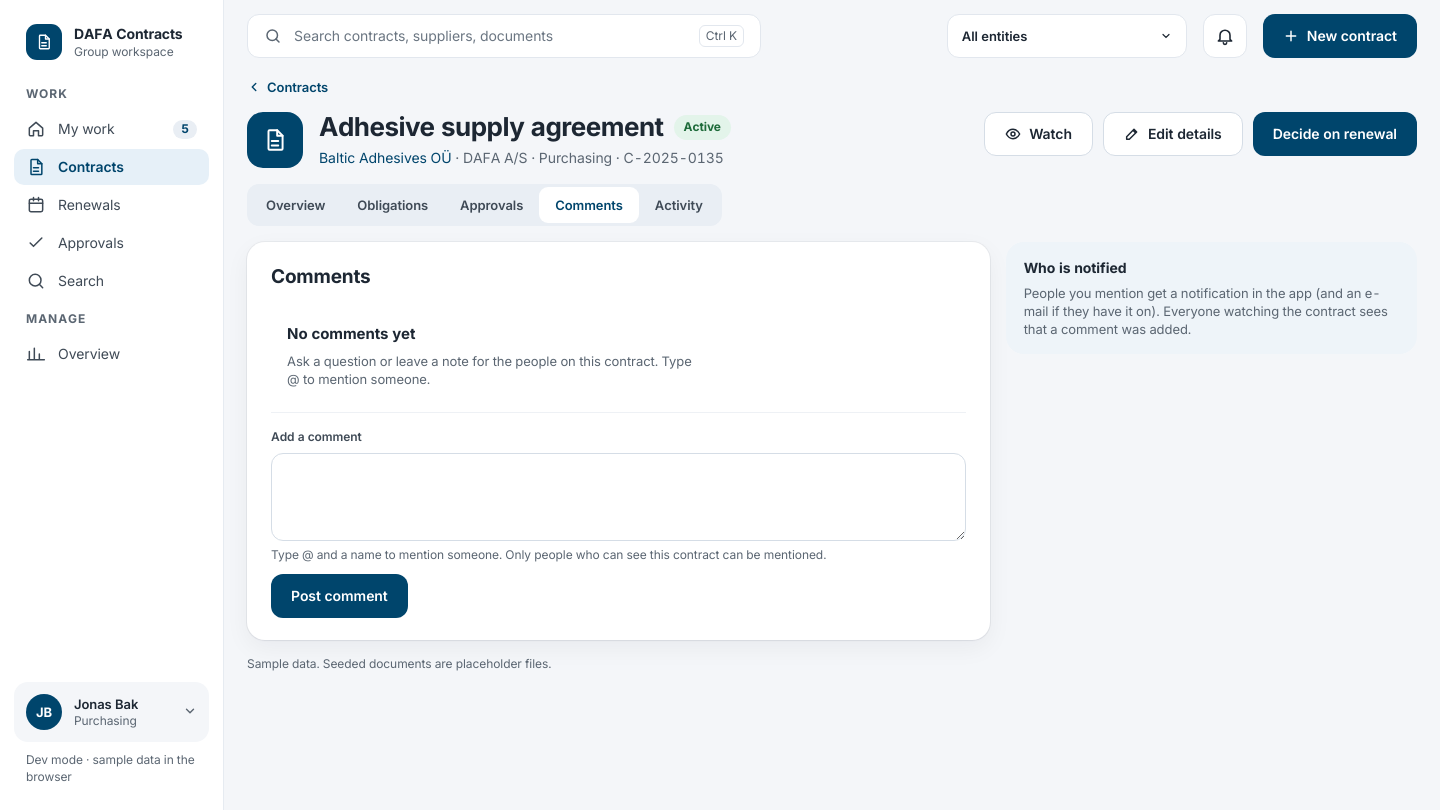
Collaboration on the record (release 3) › posts a comment with an @mention and the mentioned person gets a notification
The width and height of the screenshot is (1440, 810).
Type "Please check @Cam" into the dropdown labelled "Add a comment" at (618, 497), box [271, 453, 966, 541]
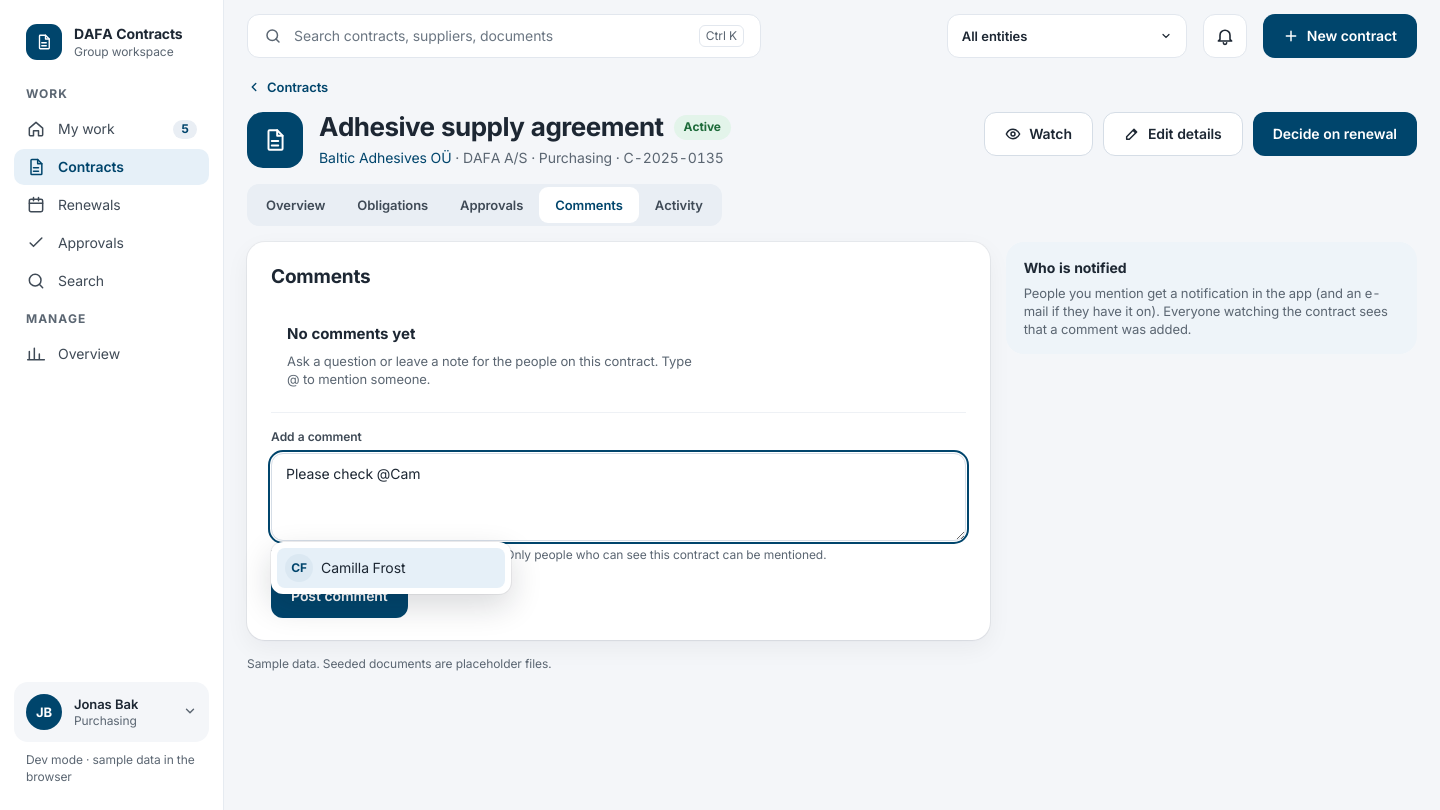
Click the option "CF Camilla Frost" at (391, 568), box [277, 548, 505, 588]
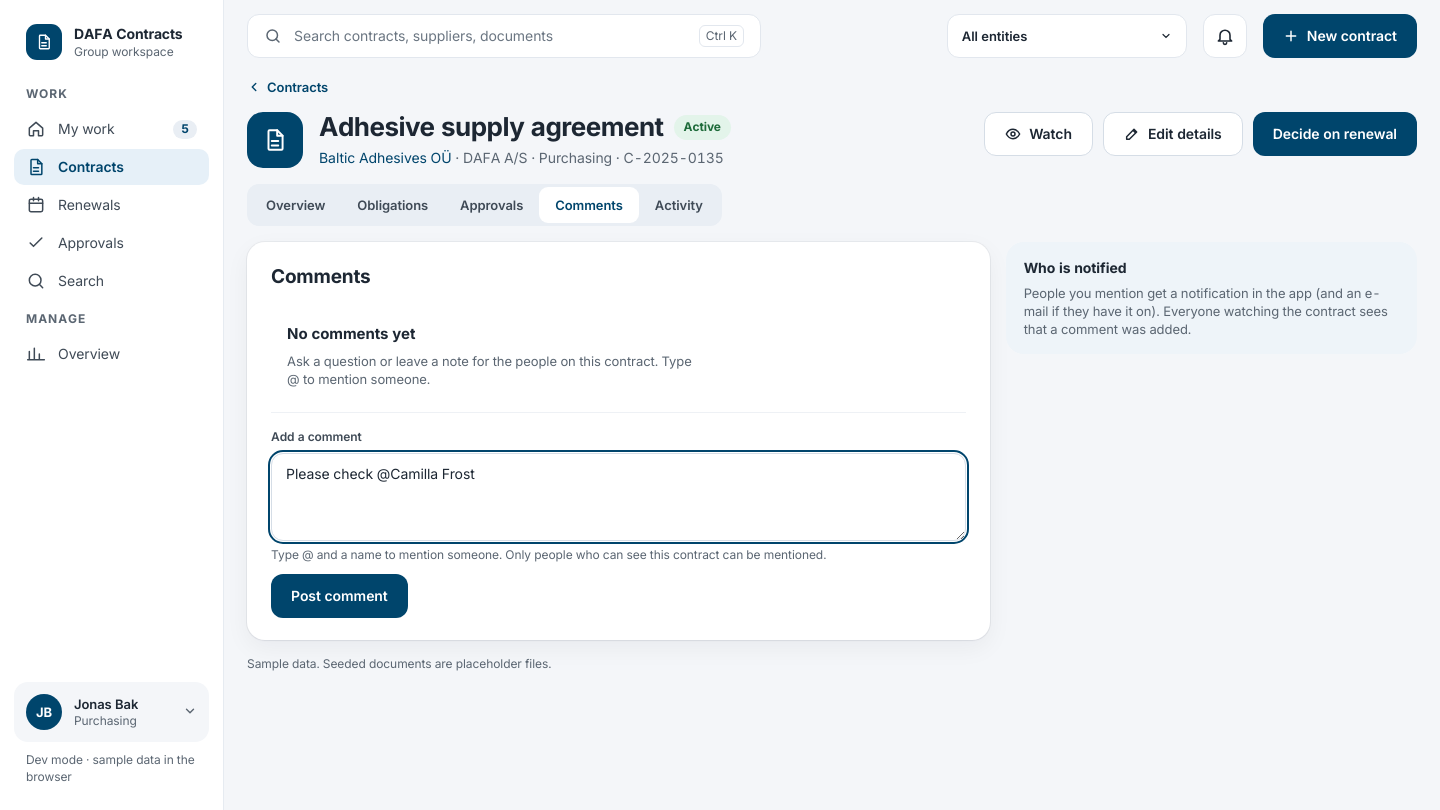
Type "the volumes" into the dropdown labelled "Add a comment" at (618, 497), box [271, 453, 966, 541]
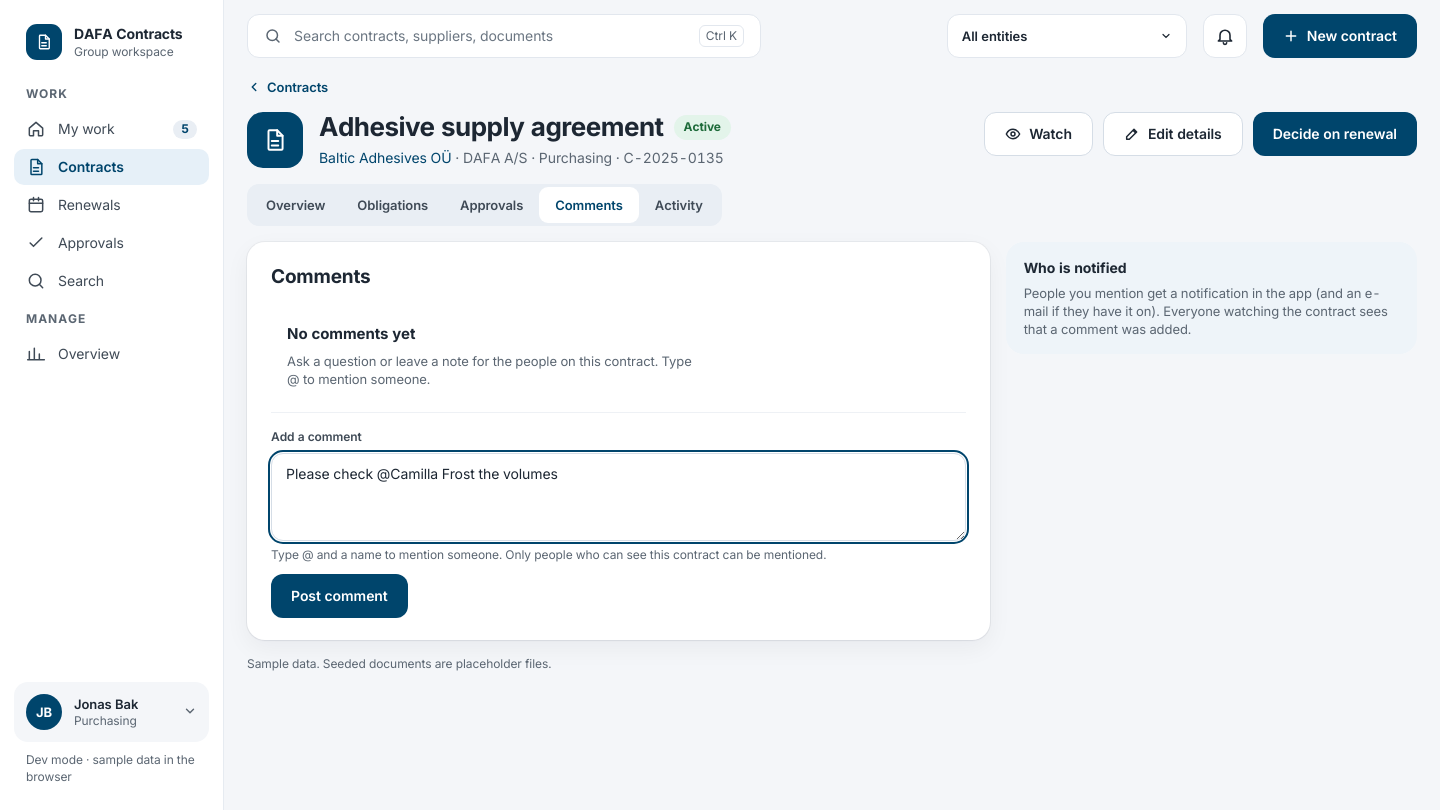
Click the button "Post comment" at (339, 596), box [271, 574, 408, 618]
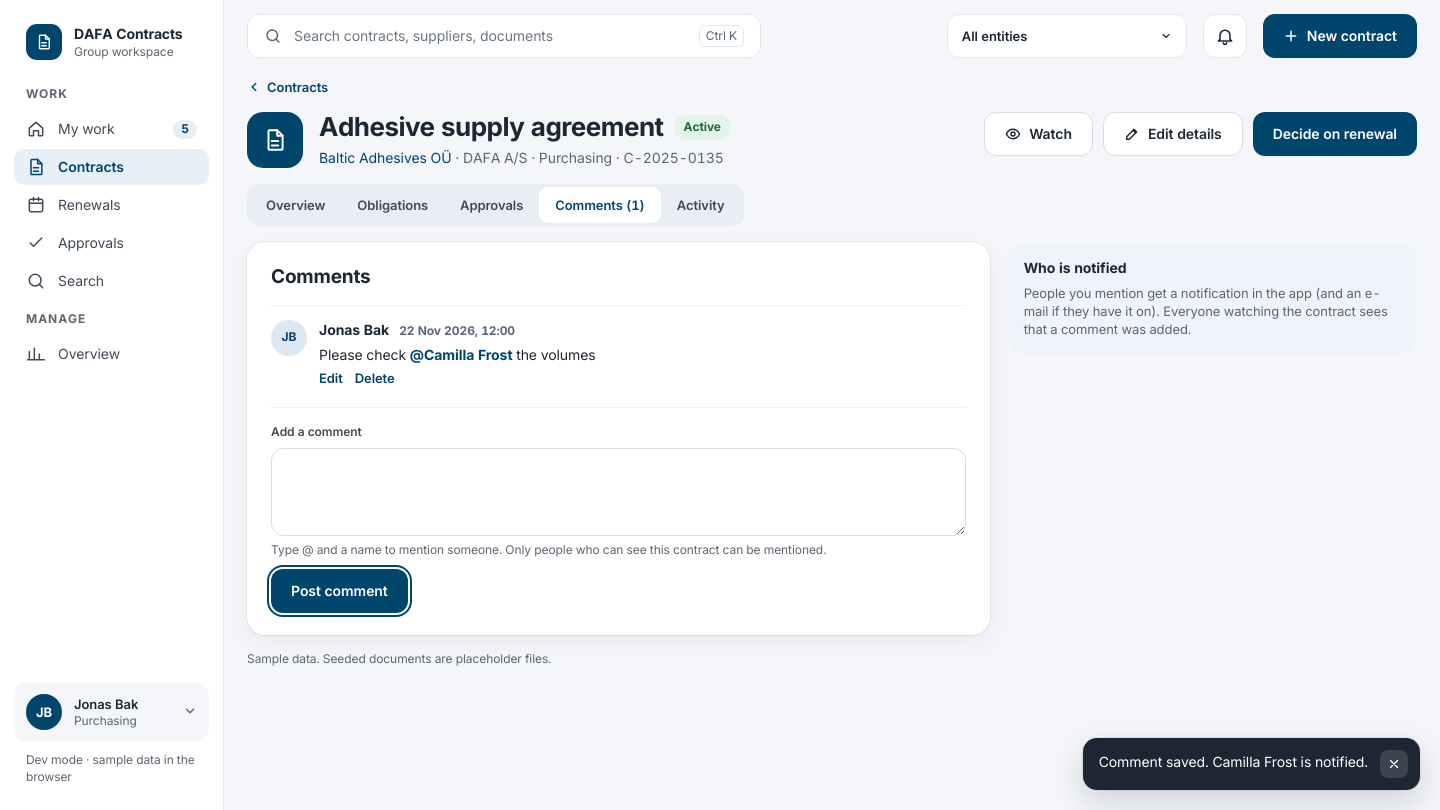
Now the text "@Camilla Frost" is shown, box [410, 346, 512, 363]
